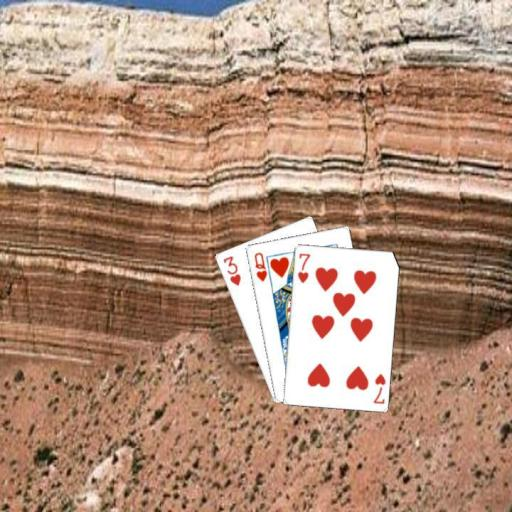3H: (220, 253, 242, 288)
7H: (295, 250, 312, 285), (370, 371, 387, 406)
QH: (251, 249, 268, 283)
